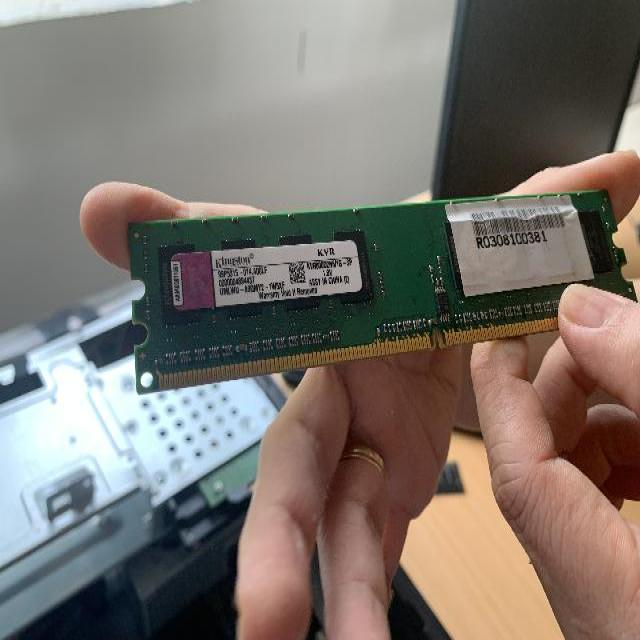RAM: (121, 190, 640, 398)
